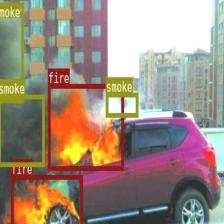fire: (47, 84, 123, 170), (10, 174, 82, 224)
smoke: (0, 93, 44, 165), (0, 2, 23, 102), (106, 92, 138, 116)
